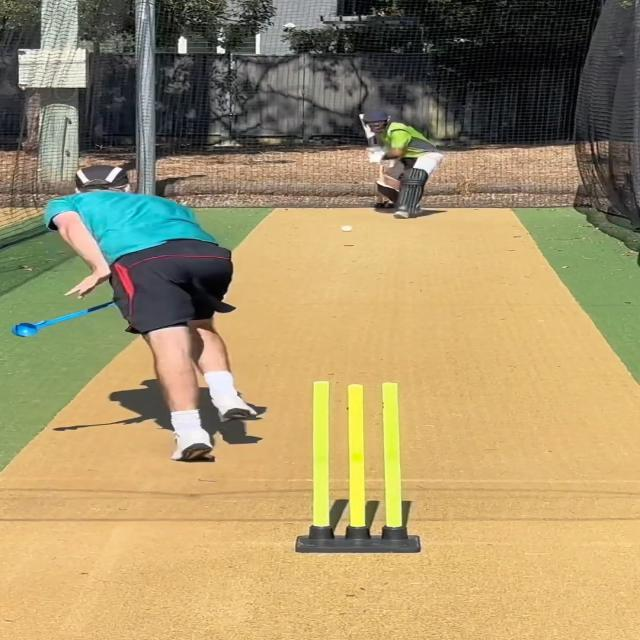ball: (337, 224, 357, 234)
stump: (292, 380, 425, 554)
